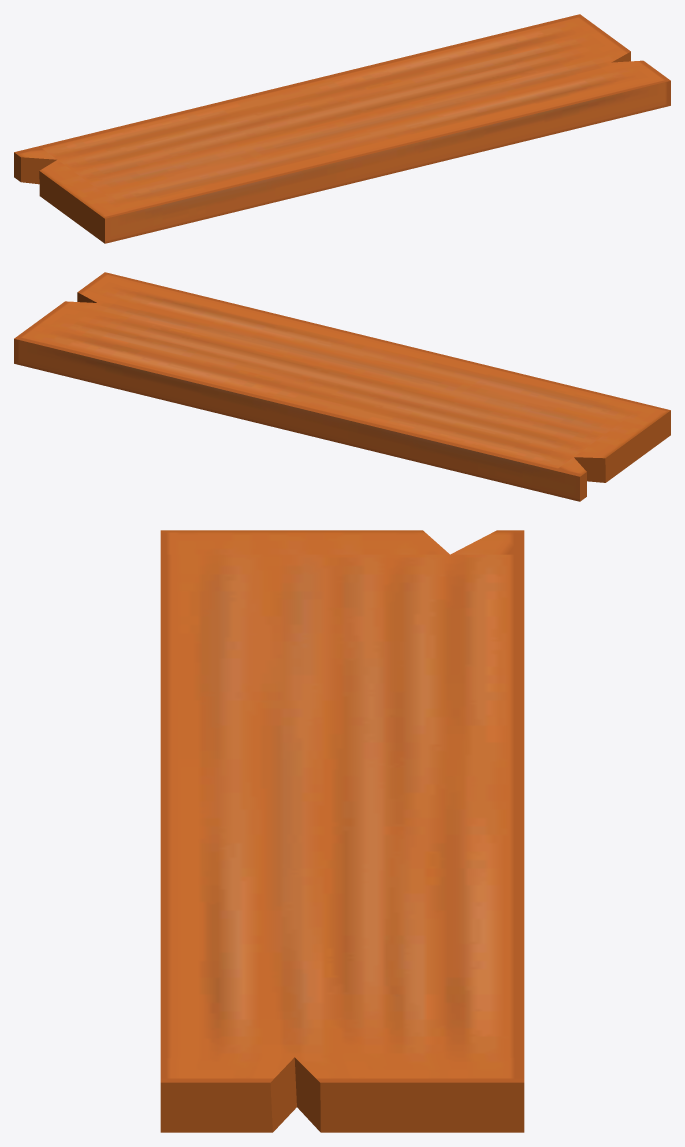
The model's file is GumWoodPlank.fbx.
The picture shows the model from 3 angles, top to bottom: view 1: azimuth 30°, elevation 25°; view 2: azimuth 150°, elevation 25°; view 3: azimuth 270°, elevation 25°; orthographic projection. The views are drawn at different scales.
Parts seen in each view (by area): view 1: WoodPlank; view 2: WoodPlank; view 3: WoodPlank.
Part boxes in pixels (<box>): WoodPlank: <box>14,14,670,243</box>; WoodPlank: <box>14,272,670,501</box>; WoodPlank: <box>160,530,524,1132</box>.
Size of the model in its own units: 1.67 by 0.0706 by 0.4654.
